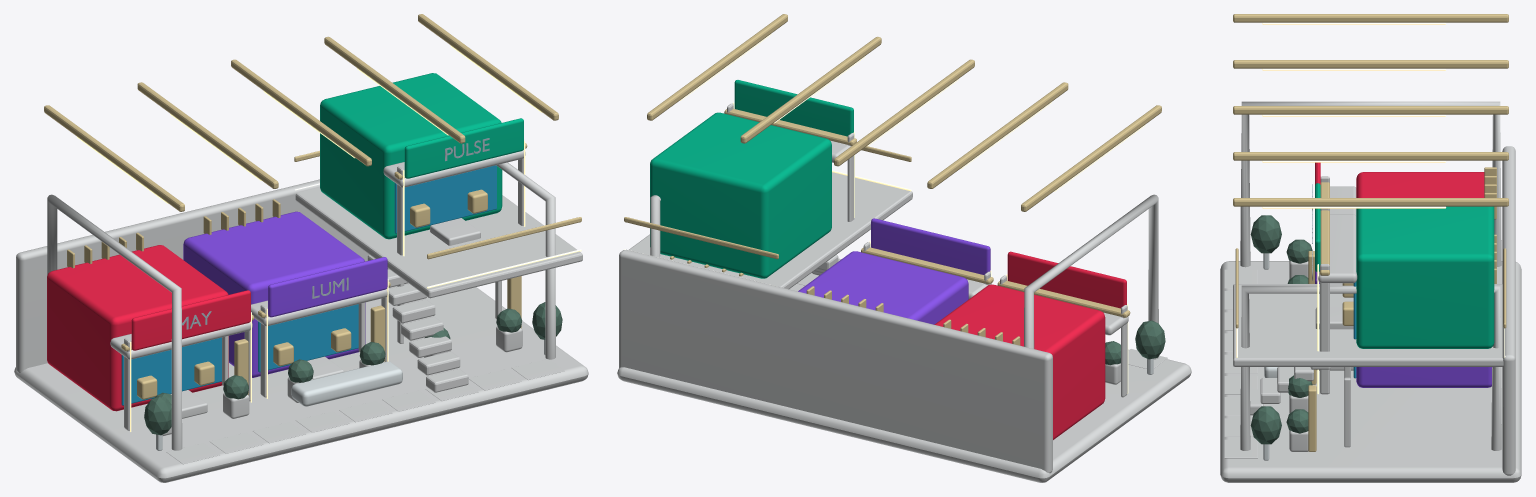
The model's file is mall.glb.
The picture shows the model from 3 angles, left to right: view 1: azimuth 30°, elevation 25°; view 2: azimuth 150°, elevation 25°; view 3: azimuth 270°, elevation 25°; orthographic projection.
Parts seen in each view (by area): view 1: mall_floor, may_shell, pulse_shell, mall_floor_2_mezzanine, lumi_shell, mall_rear_wall, mall_roof_arc, lumi_signback, pulse_signback, may_signback, pulse_window, lumi_window (+28 smaller); view 2: mall_rear_wall, pulse_shell, mall_floor, may_shell, lumi_shell, mall_floor_2_mezzanine, lumi_signback, mall_roof_arc, may_signback, pulse_signback, mall_ceiling_louver.003, mall_ceiling_louver.001 (+9 smaller); view 3: mall_floor, pulse_shell, mall_floor_2_mezzanine, mall_rear_wall, mall_roof_arc.001, mall_roof_arc, may_shell, lumi_shell, mall_ceiling_louver, mall_ceiling_louver.001, mall_ceiling_louver.002, mall_ceiling_louver.003 (+26 smaller).
Boxes of the visible parts, bbox=[...] form: mall_floor: bbox=[14, 283, 588, 482]; may_shell: bbox=[47, 245, 228, 411]; pulse_shell: bbox=[320, 73, 502, 239]; mall_floor_2_mezzanine: bbox=[295, 187, 582, 298]; lumi_shell: bbox=[183, 211, 365, 377]; mall_rear_wall: bbox=[16, 179, 388, 372]; mall_roof_arc: bbox=[47, 194, 182, 450]; lumi_signback: bbox=[268, 257, 387, 317]; pulse_signback: bbox=[404, 118, 523, 178]; may_signback: bbox=[131, 290, 250, 350]; pulse_window: bbox=[394, 165, 496, 233]; lumi_window: bbox=[258, 304, 358, 372]; mall_rear_wall: bbox=[619, 249, 1052, 473]; pulse_shell: bbox=[650, 112, 831, 278]; mall_floor: bbox=[617, 284, 1191, 482]; may_shell: bbox=[934, 284, 1105, 439]; lumi_shell: bbox=[798, 251, 968, 324]; mall_floor_2_mezzanine: bbox=[629, 172, 912, 289]; lumi_signback: bbox=[871, 218, 990, 275]; mall_roof_arc: bbox=[1024, 194, 1158, 359]; may_signback: bbox=[1007, 251, 1126, 308]; pulse_signback: bbox=[734, 80, 853, 136]; mall_ceiling_louver.003: bbox=[740, 36, 881, 143]; mall_ceiling_louver.001: bbox=[927, 82, 1068, 188]; mall_floor: bbox=[1220, 261, 1521, 482]; pulse_shell: bbox=[1356, 206, 1494, 348]; mall_floor_2_mezzanine: bbox=[1233, 284, 1503, 366]; mall_rear_wall: bbox=[1502, 146, 1515, 475]; mall_roof_arc.001: bbox=[1240, 285, 1501, 450]; mall_roof_arc: bbox=[1240, 101, 1501, 267]; may_shell: bbox=[1356, 172, 1484, 197]; lumi_shell: bbox=[1356, 367, 1492, 387]; mall_ceiling_louver: bbox=[1233, 14, 1508, 22]; mall_ceiling_louver.001: bbox=[1233, 60, 1508, 68]; mall_ceiling_louver.002: bbox=[1233, 106, 1508, 114]; mall_ceiling_louver.003: bbox=[1233, 152, 1508, 160].
Size of the model in its own units: 6 by 3.6 by 3.6.
